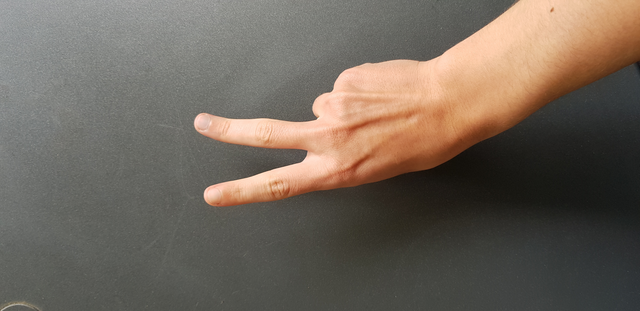Scissors: (166, 48, 467, 221)
